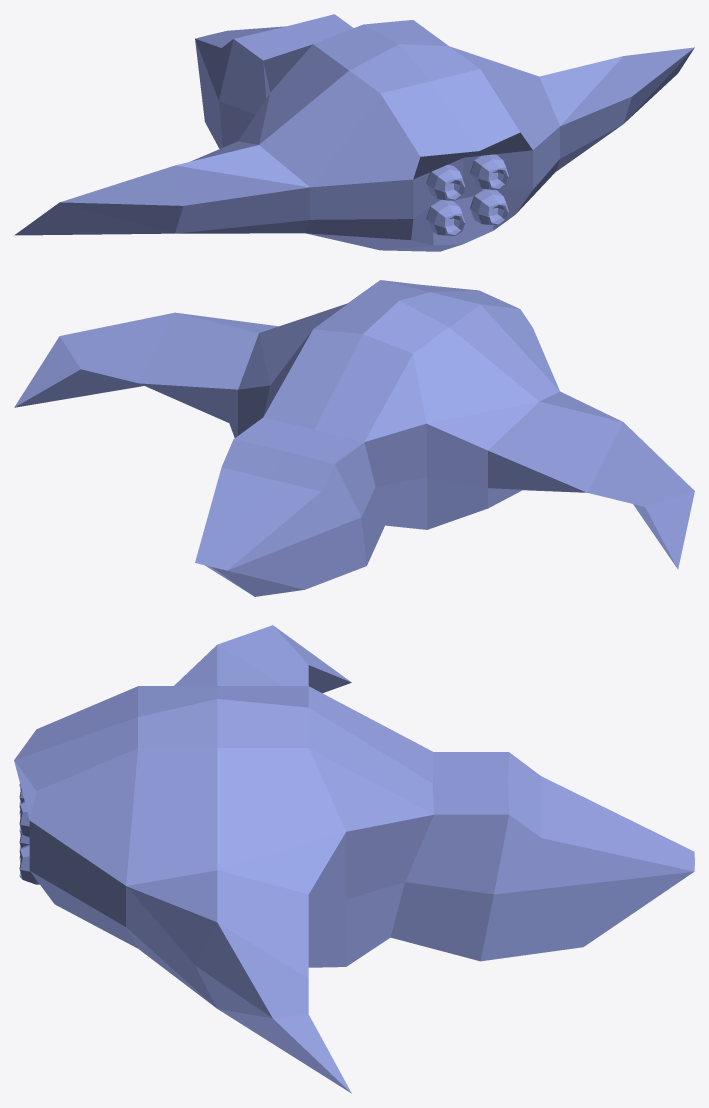
Rendered from spaceshipRotated.glb.
The picture shows the model from 3 angles, top to bottom: view 1: azimuth 30°, elevation 25°; view 2: azimuth 150°, elevation 25°; view 3: azimuth 270°, elevation 25°; orthographic projection. The views are drawn at different scales.
Visible parts, largest first — view 1: Cube; view 2: Cube; view 3: Cube.
Part boxes in pixels (x1,y1,x2,y2): Cube: (14,14,694,251); Cube: (14,280,694,596); Cube: (14,625,694,1093).
Size of the model in its own units: 13.28 by 3.64 by 9.3.
